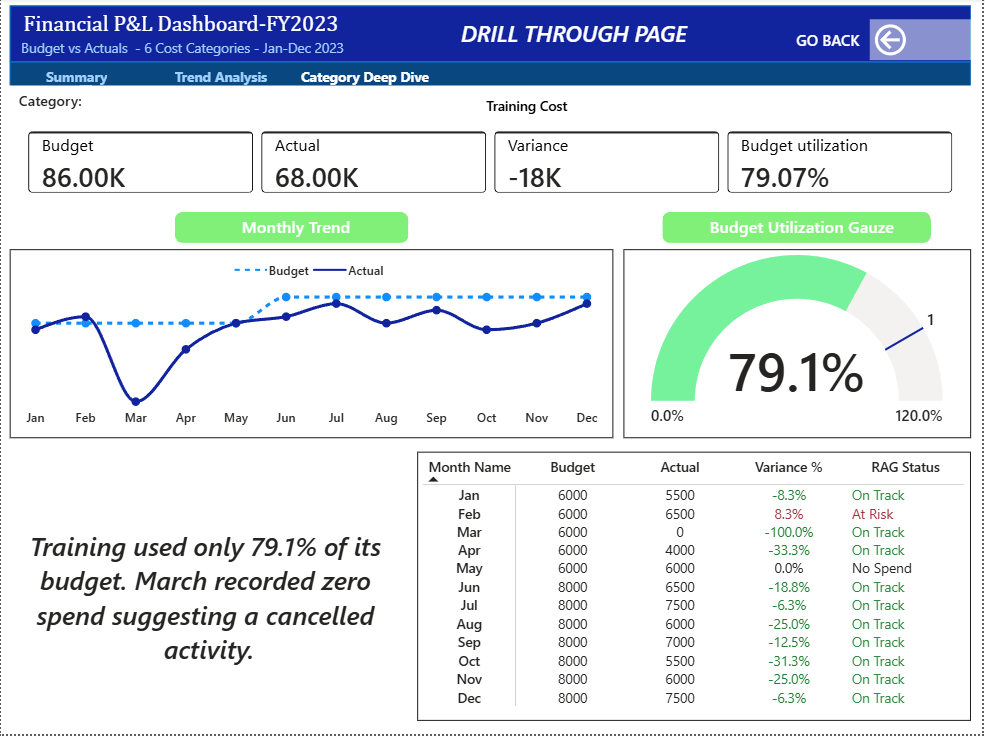

Layout of this report page (visuals, bound fields, positions):
{"tool":"powerbi","page":{"name":"Category Deep Dive","canvas":[960,720],"ordinal":2},"visuals":[{"type":"group","id":"g1","title":"Group 4","box":[8,7.3,940.5,84],"z":0},{"type":"shape","box":[8.1,7.3,940.4,55.3],"z":0,"group":"g3"},{"type":"group","id":"g2","title":"Group 2","box":[8,61.2,940.4,30.1],"z":0,"group":"g1"},{"type":"shape","box":[8,63,940.4,28],"z":0,"group":"g2"},{"type":"shape","box":[170,209.1,228.7,30.8],"z":0,"group":"g4"},{"type":"shape","box":[646.9,209.1,262.9,30.8],"z":0,"group":"g5"},{"type":"group","id":"g3","title":"Group 3","box":[8.1,7.3,940.4,55.3],"z":1000,"group":"g1"},{"type":"textbox","box":[16.7,7.3,351.2,39.3],"z":1000,"group":"g3"},{"type":"pageNavigator","box":[8.1,61.2,415,30.1],"z":1000,"group":"g2"},{"type":"slicer","fields":{"Values":["fact_Finance.Cost Category"]},"box":[77,91.7,873.1,26],"z":1000},{"type":"textbox","box":[201.9,207.9,173.7,31.5],"z":1000,"group":"g4"},{"type":"textbox","box":[683.6,207.9,199.7,31.5],"z":1000,"group":"g5"},{"type":"textbox","box":[14.5,33.8,330.2,28.1],"z":2000,"group":"g3"},{"type":"textbox","box":[7.3,91.7,81.9,24.5],"z":2000},{"type":"cardVisual","fields":{"Data":["Measure Table.Budget","Measure Table.Actual","Measure Table.Variance","Measure Table.Budget utilization"]},"box":[9.8,116.2,939.1,91.7],"z":3000},{"type":"lineChart","fields":{"Category":["dim_Date.Month Name"],"Y":["Measure Table.Budget","Measure Table.Actual"]},"box":[8.6,245.8,590.6,184.6],"z":4000},{"type":"pivotTable","fields":{"Rows":["dim_Date.Month Name"],"Values":["Measure Table.Budget","Measure Table.Actual","Measure Table.Variance %","Measure Table.RAG"]},"box":[407.2,443.9,541.7,262.9],"z":5000},{"type":"gauge","title":"Budget Utilization Gauge","fields":{"Y":["Measure Table.Budget utilization"],"TargetValue":["Measure Table.Target value for gauge"]},"box":[609,245.8,339.9,184.6],"z":6000},{"type":"actionButton","box":[849.8,20.2,99.6,40.4],"z":7000},{"type":"card","fields":{"Values":["Measure Table.Dynamic Insight"]},"box":[8.6,443.9,390.1,262.9],"z":8000},{"type":"group","id":"g4","title":"Group 5","box":[170,207.9,228.7,31.8],"z":9000},{"type":"group","id":"g5","title":"Group 5","box":[646.9,207.9,262.9,31.8],"z":10000},{"type":"textbox","box":[767.9,20.8,81.9,41.6],"z":11000},{"type":"textbox","box":[445.1,14.7,238.5,39.1],"z":12000}]}

Visuals, with their boxes in screenshot pixels (x1, y1, x2, y2), scaled from the page's 960x720 canvas onto the 985x736 screenshot:
"Group 4" group: (x1=8, y1=7, x2=973, y2=93)
shape: (x1=8, y1=7, x2=973, y2=64)
"Group 2" group: (x1=8, y1=63, x2=973, y2=93)
shape: (x1=8, y1=64, x2=973, y2=93)
shape: (x1=174, y1=214, x2=409, y2=245)
shape: (x1=664, y1=214, x2=933, y2=245)
"Group 3" group: (x1=8, y1=7, x2=973, y2=64)
textbox: (x1=17, y1=7, x2=377, y2=48)
pageNavigator: (x1=8, y1=63, x2=434, y2=93)
slicer - fact_Finance.Cost Category: (x1=79, y1=94, x2=975, y2=120)
textbox: (x1=207, y1=213, x2=385, y2=245)
textbox: (x1=701, y1=213, x2=906, y2=245)
textbox: (x1=15, y1=35, x2=354, y2=63)
textbox: (x1=7, y1=94, x2=92, y2=119)
cardVisual - Measure Table.Budget x Measure Table.Actual: (x1=10, y1=119, x2=974, y2=213)
lineChart - dim_Date.Month Name x Measure Table.Budget: (x1=9, y1=251, x2=615, y2=440)
pivotTable - dim_Date.Month Name x Measure Table.Budget: (x1=418, y1=454, x2=974, y2=723)
"Budget Utilization Gauge" gauge: (x1=625, y1=251, x2=974, y2=440)
actionButton: (x1=872, y1=21, x2=974, y2=62)
card - Measure Table.Dynamic Insight: (x1=9, y1=454, x2=409, y2=723)
"Group 5" group: (x1=174, y1=213, x2=409, y2=245)
"Group 5" group: (x1=664, y1=213, x2=933, y2=245)
textbox: (x1=788, y1=21, x2=872, y2=64)
textbox: (x1=457, y1=15, x2=701, y2=55)
